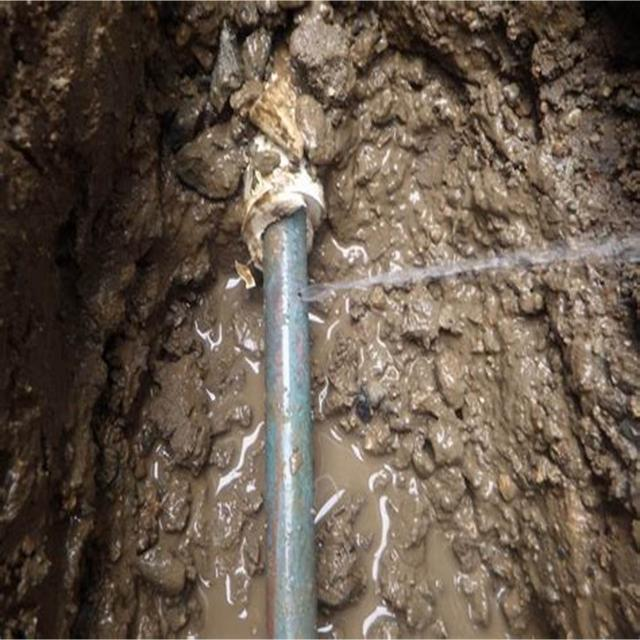leak: (298, 229, 640, 304)
